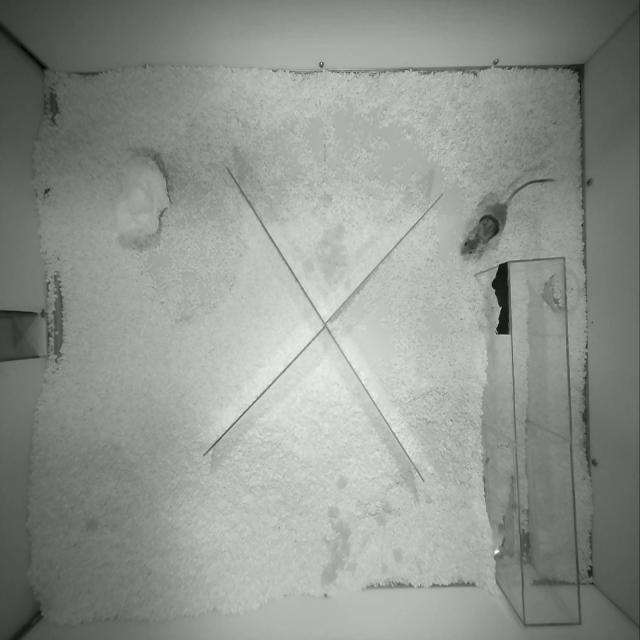adult_front: (461, 179, 555, 254)
